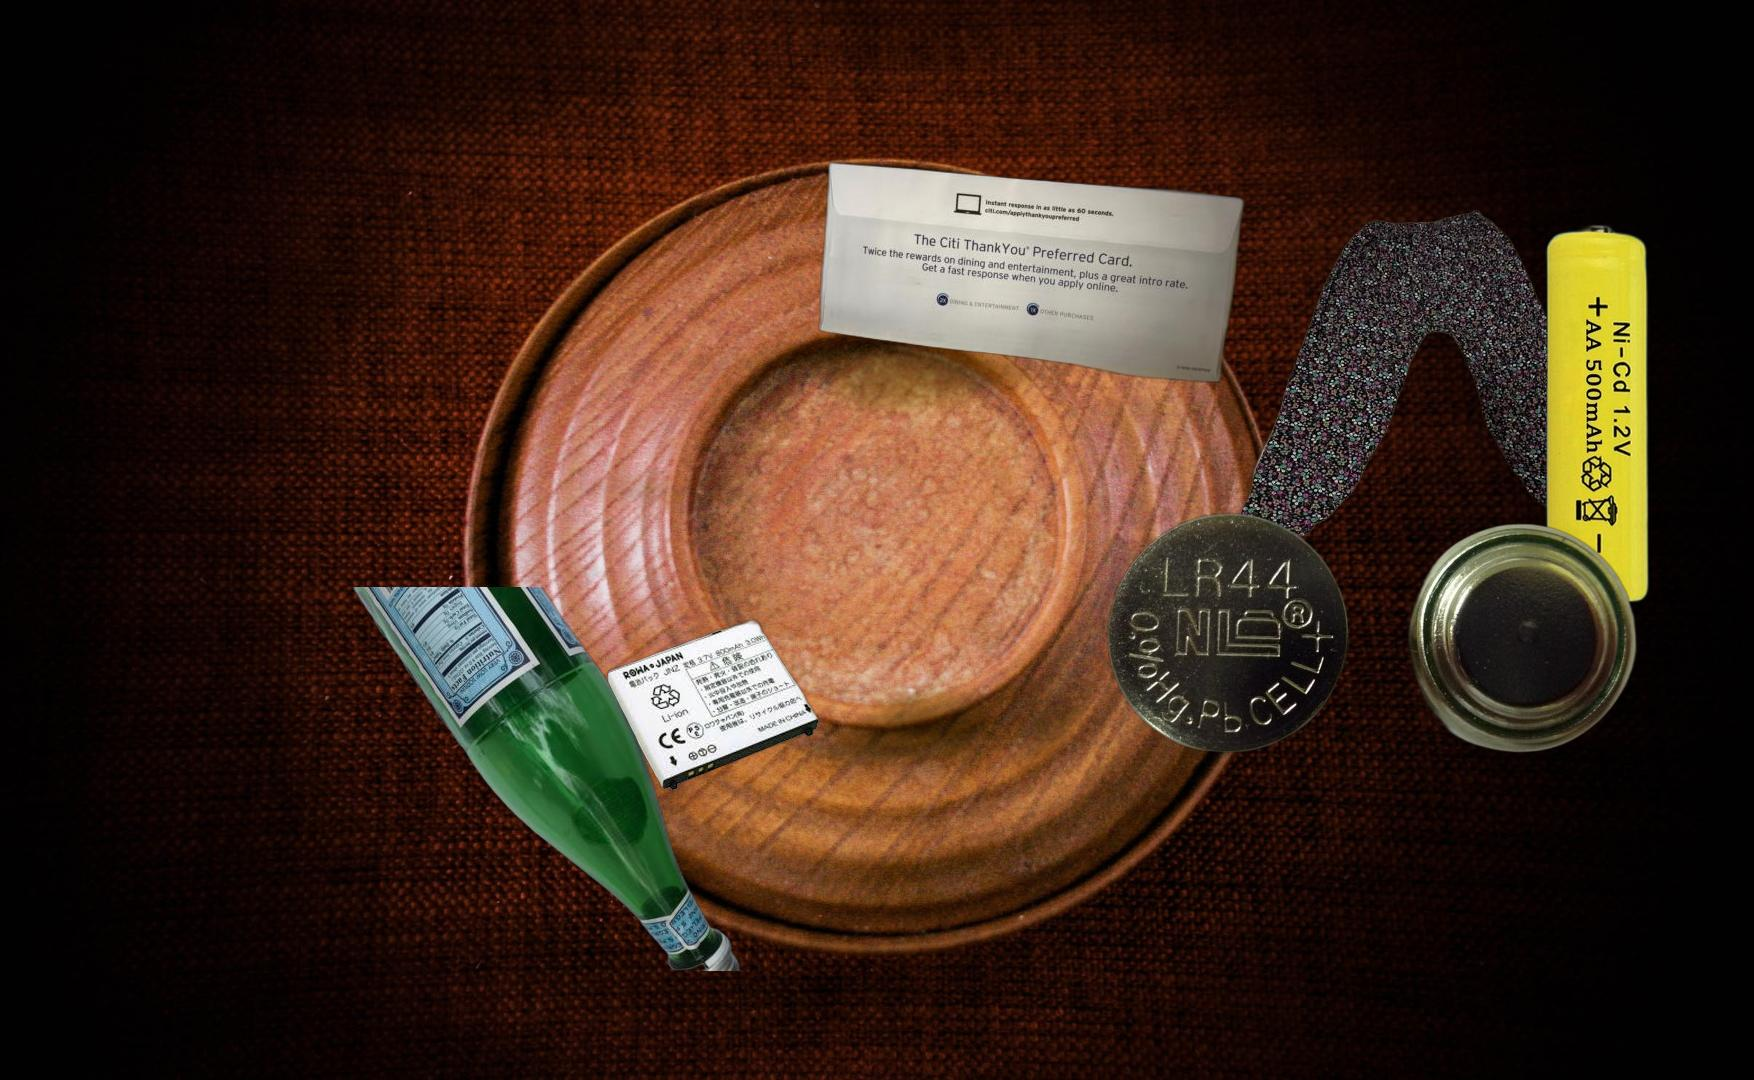battery: (1103, 510, 1641, 756), (1541, 141, 1754, 610), (605, 617, 822, 794)
clothes: (1237, 205, 1637, 546)
glass: (347, 587, 744, 971)
paper: (814, 159, 1248, 385)
